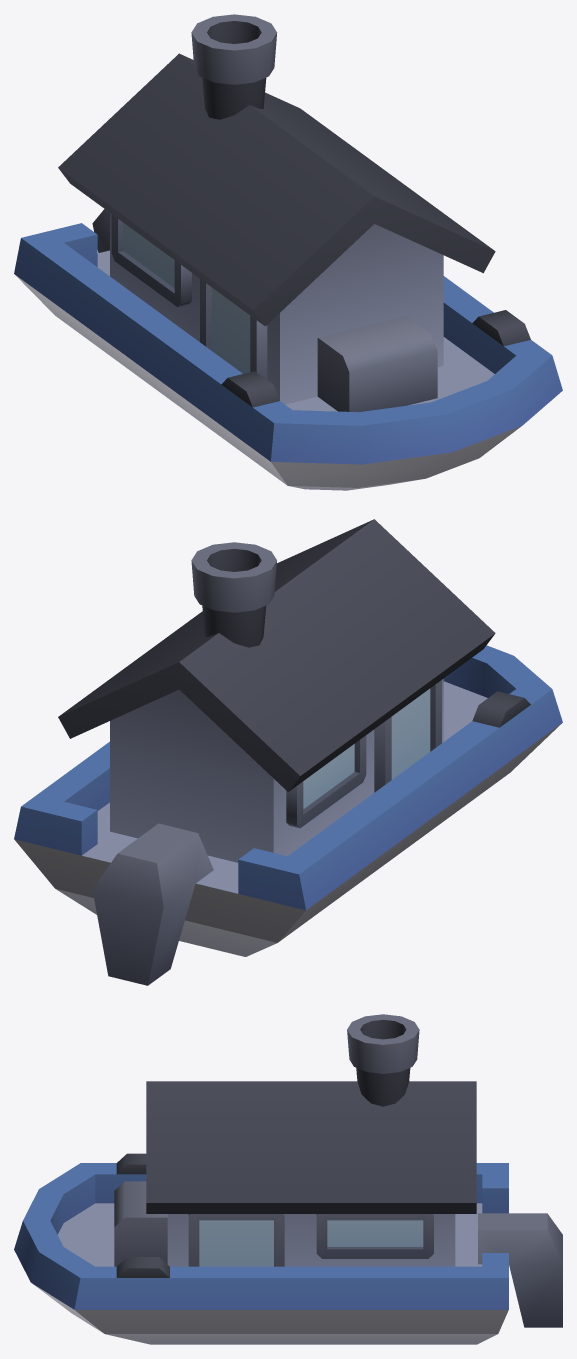
File: boat-house-c.glb
3 renders of one model, top to bottom at view 1: azimuth 30°, elevation 25°; view 2: azimuth 150°, elevation 25°; view 3: azimuth 270°, elevation 25°, orthographic. The views are drawn at different scales.
Parts seen in each view (by area): view 1: boat-house-c; view 2: boat-house-c; view 3: boat-house-c.
Boxes of the visible parts, x1,y1,x2,y2 form: boat-house-c: (14, 14, 562, 490); boat-house-c: (14, 519, 562, 985); boat-house-c: (14, 1014, 562, 1344).
Size of the model in its own units: 2.68 by 3 by 5.15.
